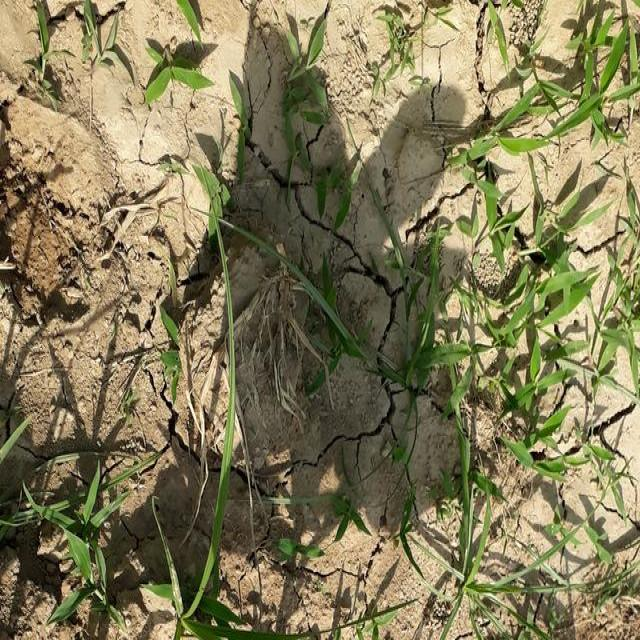weed: (423, 200, 640, 492), (94, 186, 233, 487), (385, 5, 640, 165), (0, 502, 192, 640)
